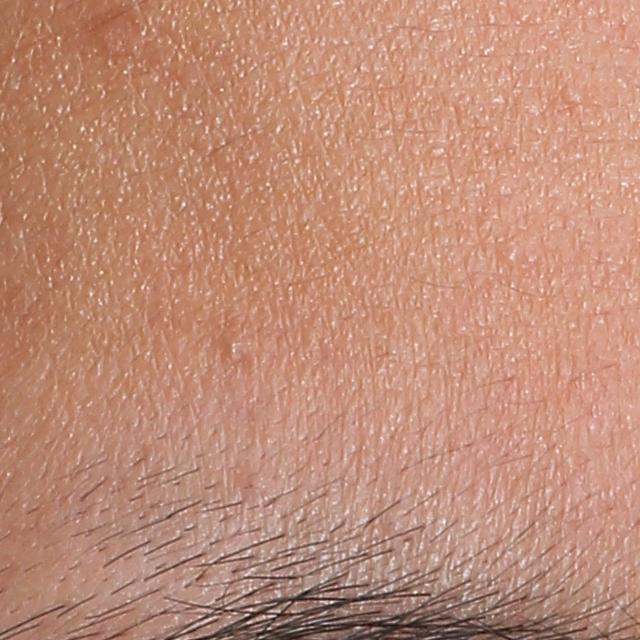comedo: (556, 85, 585, 107), (223, 334, 245, 360), (500, 245, 522, 266)
